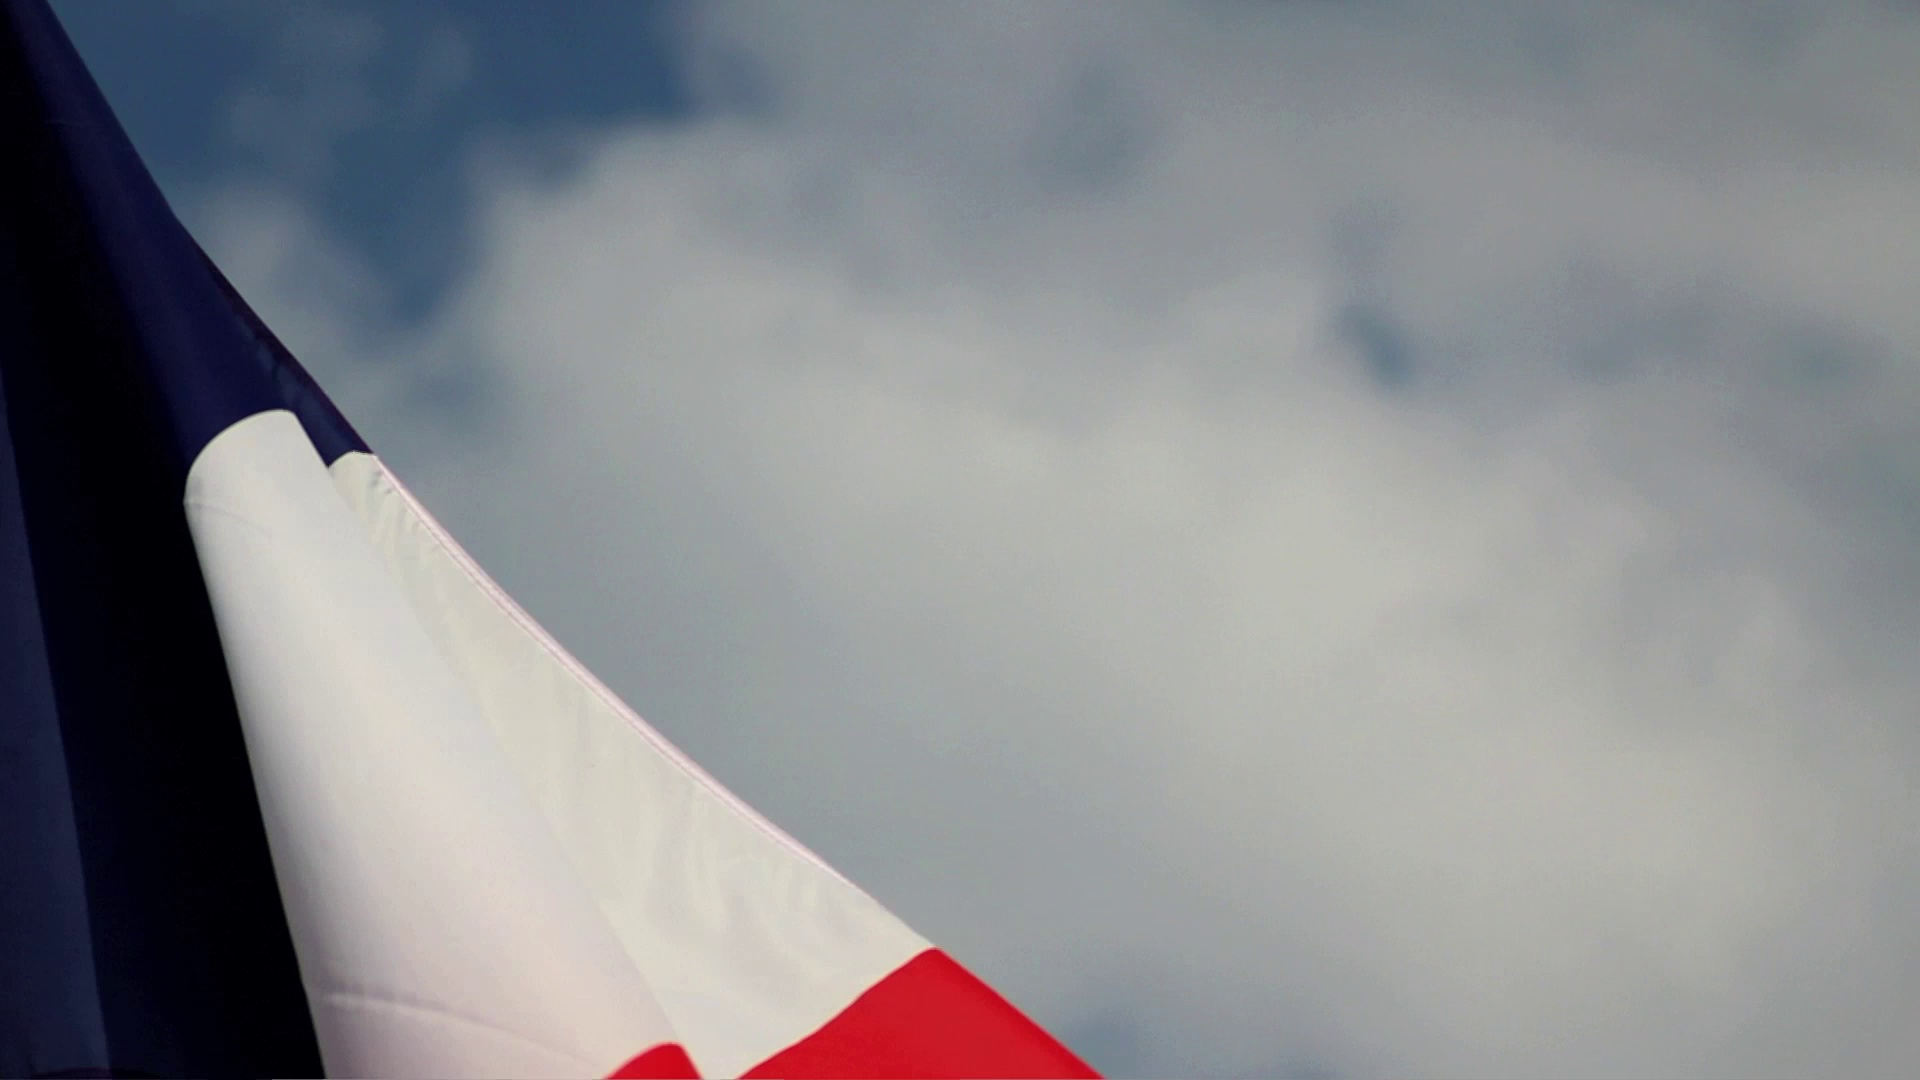French Flag: (1, 7, 1102, 1076)
